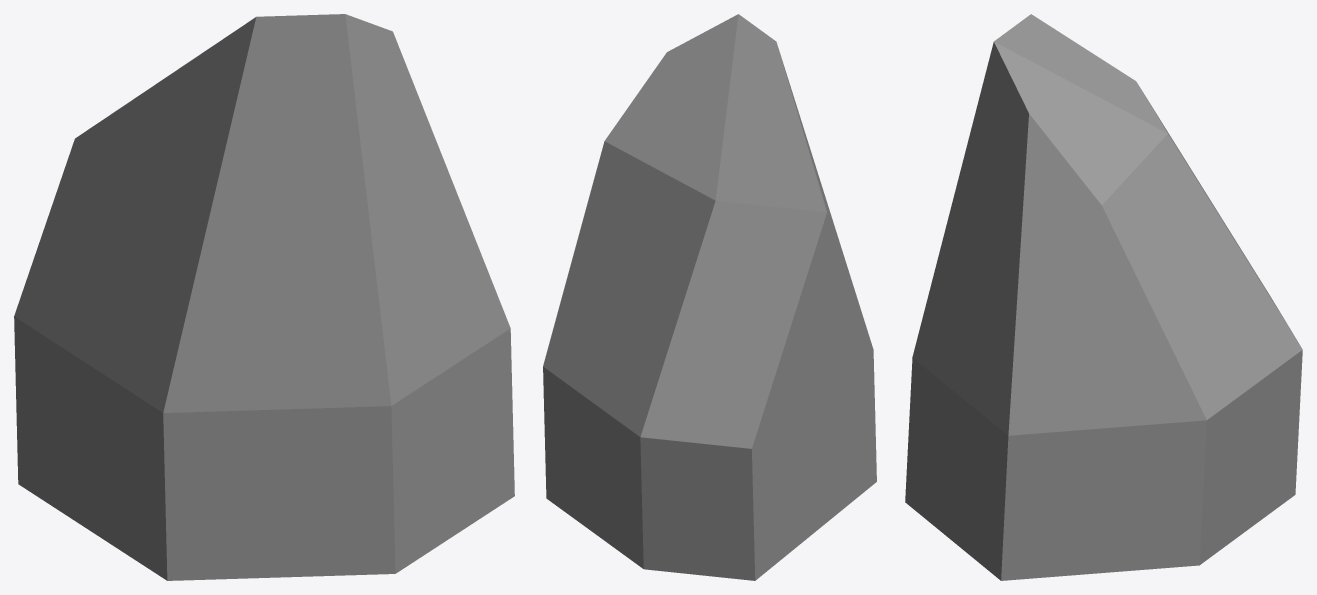
File: rock2.fbx
The picture shows the model from 3 angles, left to right: view 1: azimuth 30°, elevation 25°; view 2: azimuth 150°, elevation 25°; view 3: azimuth 270°, elevation 25°; orthographic projection. The views are drawn at different scales.
Visible parts, largest first — view 1: rock2; view 2: rock2; view 3: rock2.
Boxes of the visible parts, <box> form: rock2: <box>14,14,514,580</box>; rock2: <box>543,14,876,580</box>; rock2: <box>905,14,1302,580</box>.
Size of the model in its own units: 93.19 by 133 by 100.
